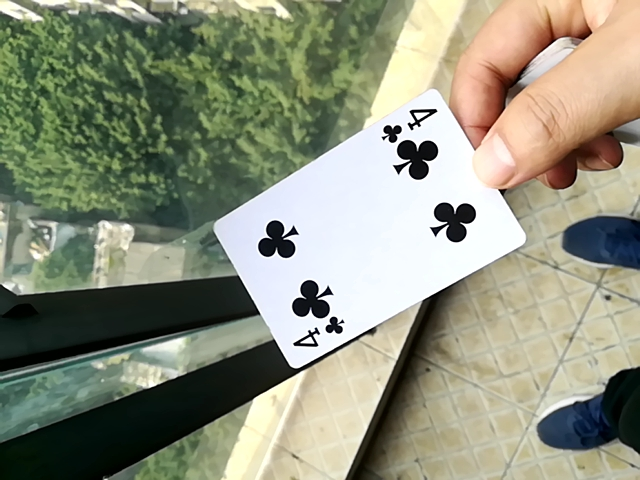mh 4: (209, 95, 529, 379)
